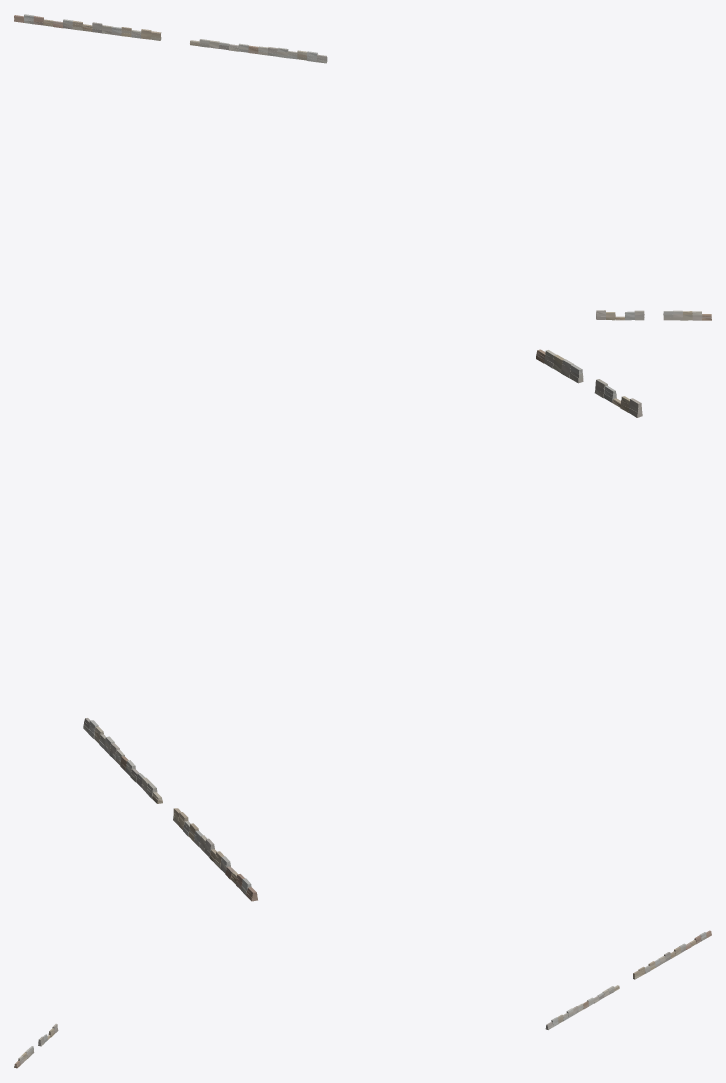
Rendered from farm_13_14_mid.glb.
3 views of the same model, one above another, from view 1: azimuth 30°, elevation 25°; view 2: azimuth 150°, elevation 25°; view 3: azimuth 270°, elevation 25° (orthographic). The views are drawn at different scales.
Parts seen in each view (by area): view 1: geometry_0; view 2: geometry_0; view 3: geometry_0.
Boxes of the visible parts, bbox=[...] form: geometry_0: bbox=[14, 14, 711, 320]; geometry_0: bbox=[83, 349, 642, 901]; geometry_0: bbox=[14, 930, 711, 1068].
Size of the model in its own units: 47.87 by 8.47 by 140.
